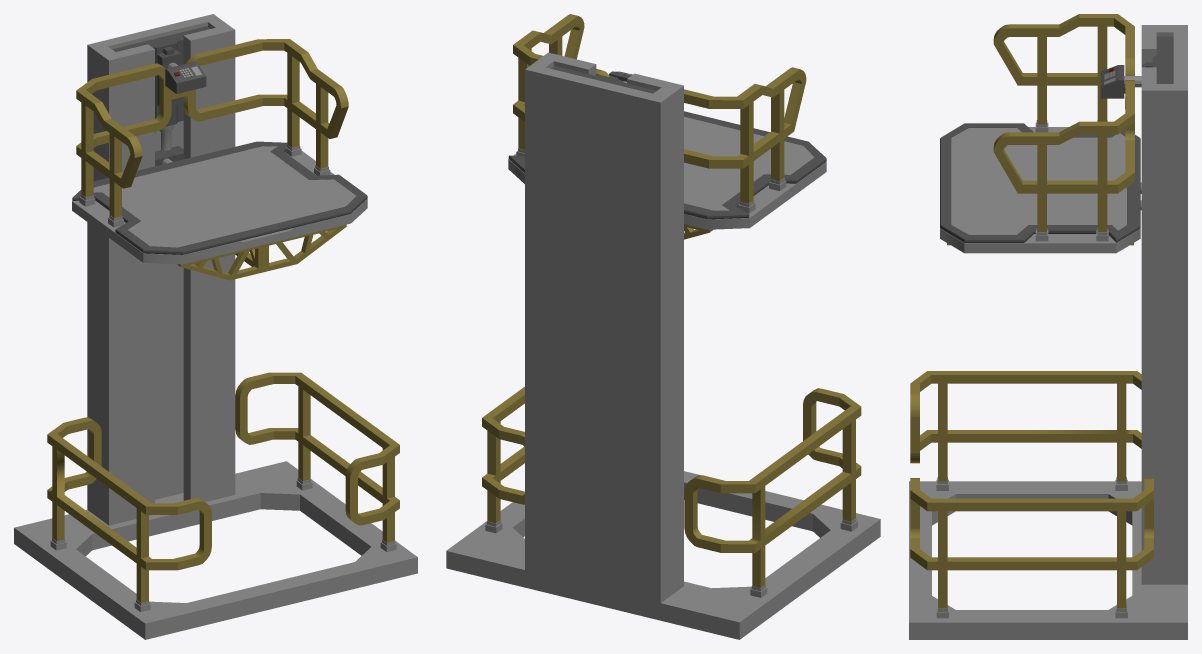
Rendered from elevator.fbx.
3 renders of one model, left to right at view 1: azimuth 30°, elevation 25°; view 2: azimuth 150°, elevation 25°; view 3: azimuth 270°, elevation 25°, orthographic. The views are drawn at different scales.
Parts seen in each view (by area): view 1: pasted__polySurface1, group13_pCube8, polySurface68, group10_polySurface30, pasted__polySurface32 (×2), pasted__pPipe10 (×2), polySurface67, pasted__polySurface35, pasted__pCube13, pCube18, pasted__polySurface2, polySurface65; view 2: pasted__polySurface1, group13_pCube8, group10_polySurface30, pasted__polySurface32 (×2), pasted__pPipe10, polySurface68, polySurface67, pasted__polySurface35; view 3: pasted__polySurface1, group13_pCube8, polySurface68, group10_polySurface30, pasted__polySurface32 (×2), pasted__pPipe10 (×2), polySurface67, pasted__polySurface35, pasted__polySurface2, polySurface65.
Boxes of the visible parts, x1,y1,x2,y2 form: pasted__polySurface1: [87, 14, 235, 525]; group13_pCube8: [14, 461, 417, 639]; polySurface68: [93, 146, 356, 247]; group10_polySurface30: [76, 39, 348, 218]; pasted__polySurface32 (×2): [96, 372, 349, 602]; pasted__pPipe10 (×2): [47, 408, 399, 542]; polySurface67: [72, 141, 367, 254]; pasted__polySurface35: [72, 151, 367, 264]; pasted__pCube13: [177, 245, 263, 280]; pCube18: [263, 224, 346, 271]; pasted__polySurface2: [112, 26, 210, 126]; polySurface65: [165, 62, 206, 93]; pasted__polySurface1: [525, 52, 683, 602]; group13_pCube8: [446, 471, 880, 639]; group10_polySurface30: [513, 14, 806, 203]; pasted__polySurface32 (×2): [482, 386, 861, 523]; pasted__pPipe10: [684, 443, 808, 587]; polySurface68: [684, 116, 814, 210]; polySurface67: [508, 111, 826, 219]; pasted__polySurface35: [508, 154, 826, 229]; pasted__polySurface1: [1141, 25, 1187, 584]; group13_pCube8: [909, 481, 1187, 639]; polySurface68: [951, 128, 1126, 234]; group10_polySurface30: [993, 14, 1134, 231]; pasted__polySurface32 (×2): [910, 371, 1153, 608]; pasted__pPipe10 (×2): [910, 371, 1141, 608]; polySurface67: [940, 123, 1140, 242]; pasted__polySurface35: [940, 127, 1140, 253]; pasted__polySurface2: [1152, 36, 1173, 83]; polySurface65: [1100, 65, 1124, 98].
Size of the model in its own units: 3.57 by 6.02 by 2.98.
